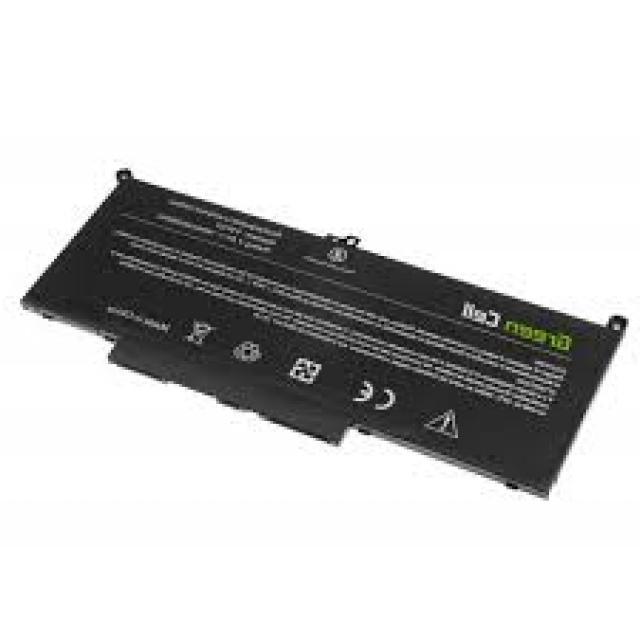battery: (21, 164, 628, 501)
